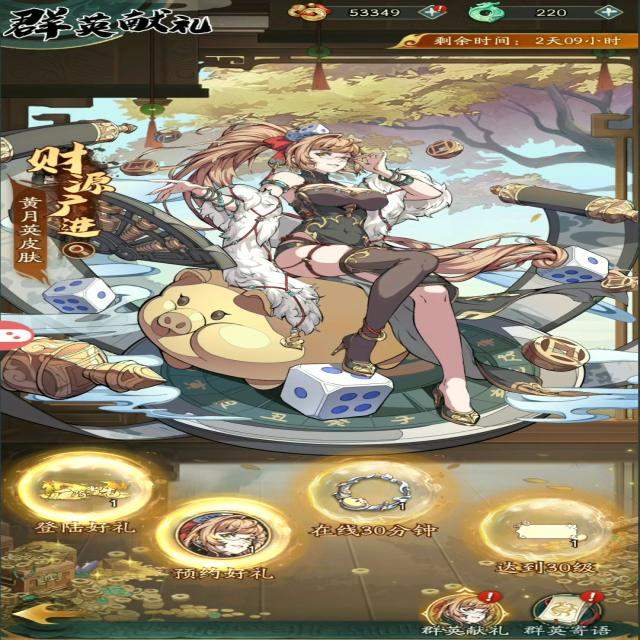hint-reddot: (472, 590, 507, 605), (574, 591, 608, 605), (433, 3, 448, 15)
operation-back: (11, 597, 97, 632)
operation-detail: (61, 242, 107, 262)
operation-qunyinggift1on: (11, 449, 157, 539)
operation-qunyinggift2on: (142, 482, 304, 586)
operation-qunyinggift3on: (303, 457, 444, 550)
operation-qunyinggift4on: (476, 496, 610, 584)
operation-qunyingjiyu: (524, 586, 619, 638)
operation-qunyingxianli: (407, 582, 518, 640)
